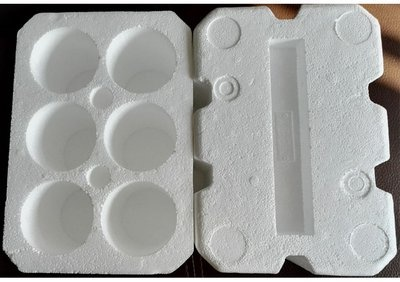5/可回收垃圾/泡沫: (193, 5, 396, 276), (3, 9, 192, 275)
